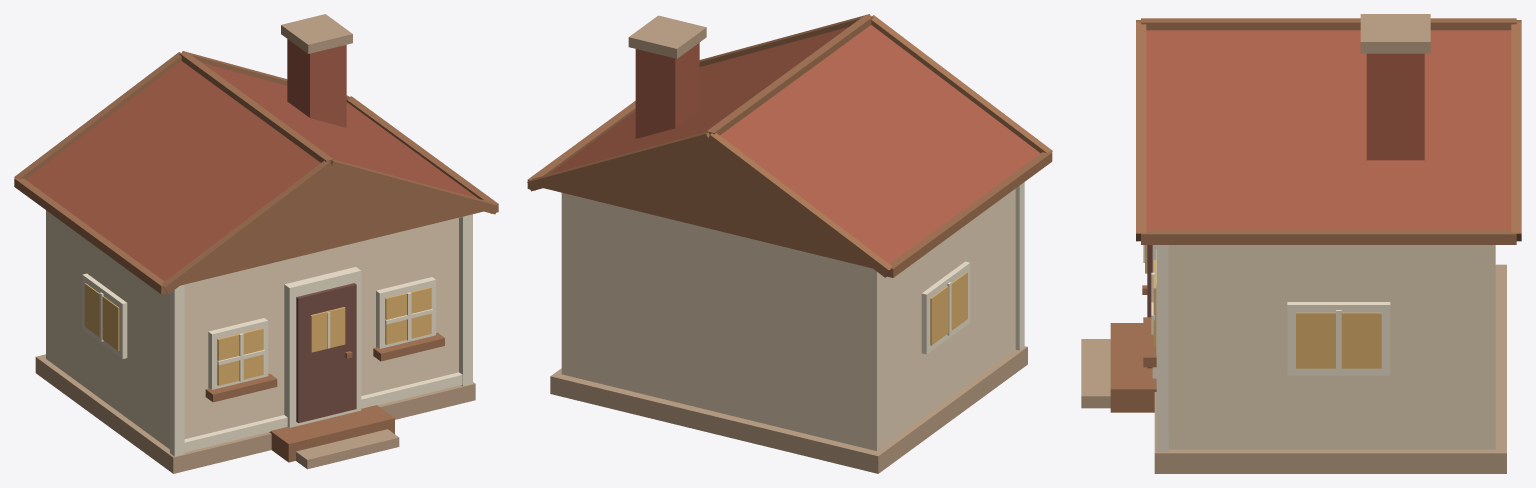
3 views of the same model, side by side, from view 1: azimuth 30°, elevation 25°; view 2: azimuth 150°, elevation 25°; view 3: azimuth 270°, elevation 25° (orthographic). The views are drawn at different scales.
Visible parts, largest first — view 1: Pitched roof, House shell, Foundation, Painted door, Brick chimney, Entrance casing, Entrance porch, Facade base trim, Front left rake, Quoin, West eaves, Quoin.001 (+16 smaller); view 2: House shell, Pitched roof, Foundation, Brick chimney, Back left rake, West eaves, Ridge cap, Back right rake, Chimney cap, Front left rake, West window glazing, Quoin (+3 smaller); view 3: Pitched roof, House shell, Foundation, Brick chimney, East eaves, East window glazing, Ridge cap, Entrance porch, East window frame, Chimney cap, Quoin.001, Back right rake (+3 smaller).
Boxes of the visible parts, x1,y1,x2,y2 form: Pitched roof: [25, 61, 483, 285]; House shell: [46, 210, 458, 449]; Foundation: [35, 354, 475, 473]; Painted door: [296, 283, 356, 423]; Brick chimney: [287, 39, 346, 127]; Entrance casing: [284, 267, 361, 427]; Entrance porch: [269, 405, 394, 462]; Facade base trim: [184, 372, 462, 452]; Front left rake: [162, 160, 333, 293]; Quoin: [170, 284, 184, 456]; West eaves: [14, 178, 166, 294]; Quoin.001: [459, 214, 472, 385]; House shell: [561, 189, 1015, 450]; Pitched roof: [543, 25, 1040, 268]; Foundation: [550, 346, 1027, 473]; Brick chimney: [635, 42, 699, 138]; Back left rake: [706, 133, 892, 277]; West eaves: [887, 151, 1052, 277]; Ridge cap: [706, 15, 873, 135]; Back right rake: [527, 131, 709, 191]; Chimney cap: [628, 15, 706, 58]; Front left rake: [871, 15, 1052, 153]; West window glazing: [930, 272, 967, 345]; Quoin: [1015, 182, 1024, 350]; Pitched roof: [1146, 30, 1511, 229]; House shell: [1168, 245, 1495, 449]; Foundation: [1154, 264, 1506, 473]; Brick chimney: [1366, 53, 1424, 160]; East eaves: [1141, 229, 1516, 244]; East window glazing: [1296, 312, 1381, 368]; Ridge cap: [1141, 18, 1516, 30]; Entrance porch: [1110, 323, 1156, 412]; East window frame: [1287, 302, 1390, 375]; Chimney cap: [1360, 14, 1430, 53]; Quoin.001: [1156, 245, 1168, 451]; Back right rake: [1511, 22, 1521, 241].
Size of the model in its own units: 4.99 by 4.49 by 4.41.
